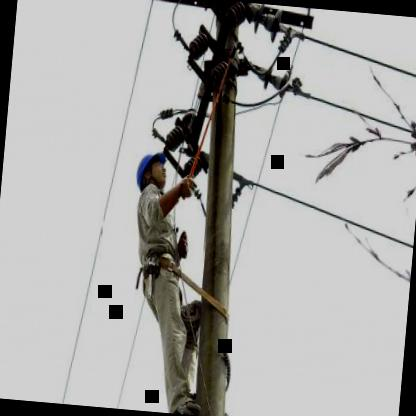helmet: (132, 150, 172, 190)
